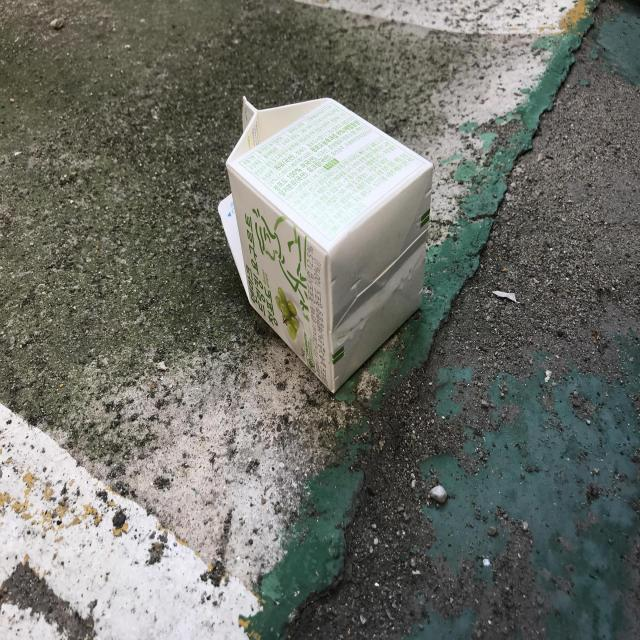paperpack: (218, 97, 432, 392)
